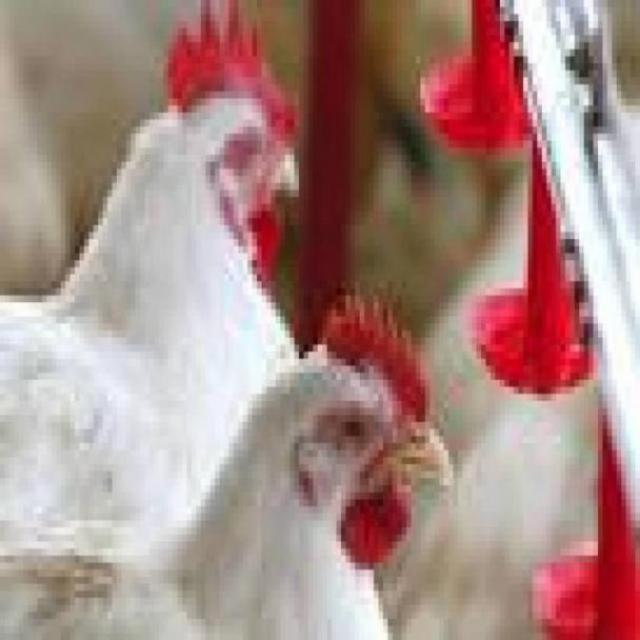Chicken: (0, 0, 304, 555), (0, 288, 462, 639)
